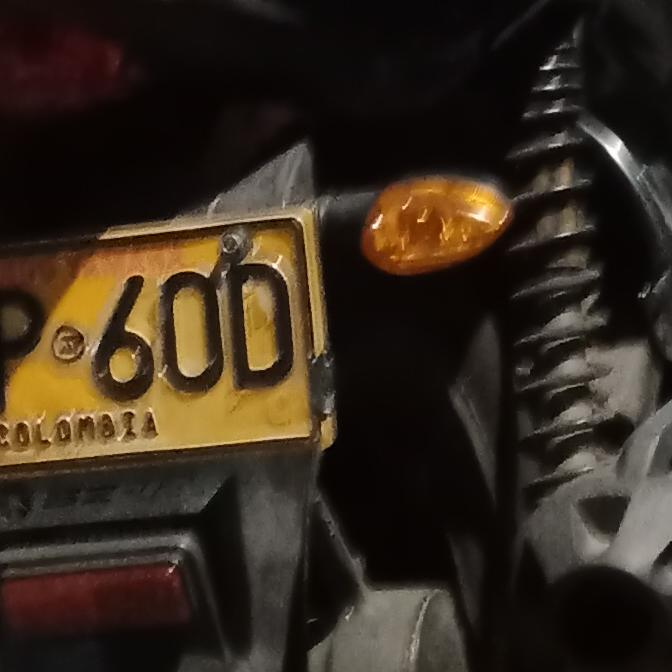plates: (0, 210, 329, 502)
